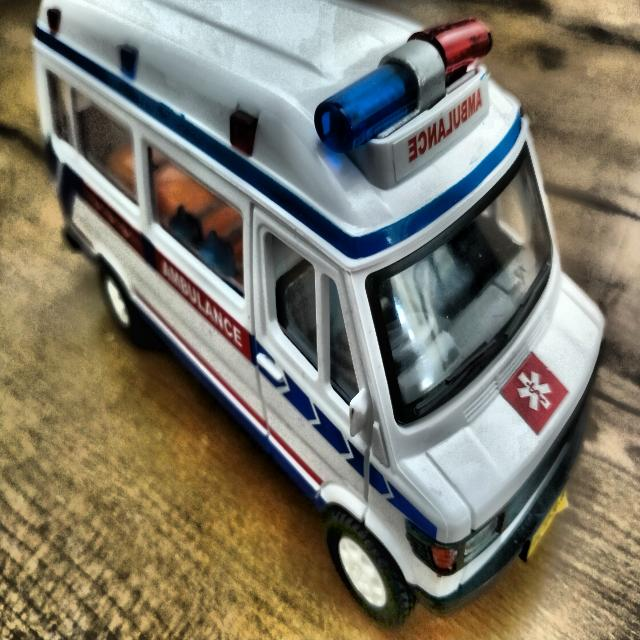Ambulance: (33, 2, 619, 629)
